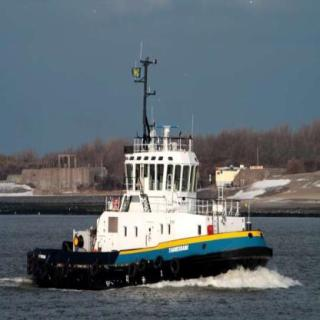Tug Boat: (17, 73, 276, 282)
